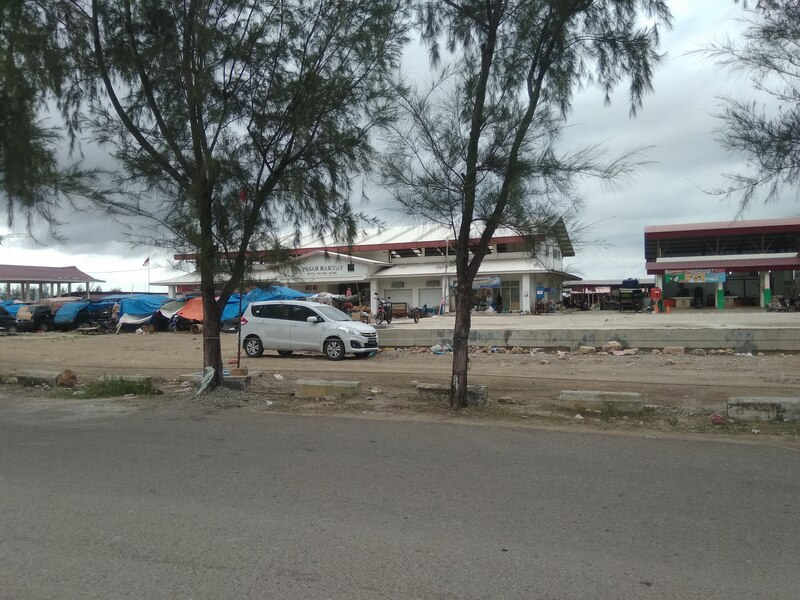becak barang: (372, 290, 423, 327)
